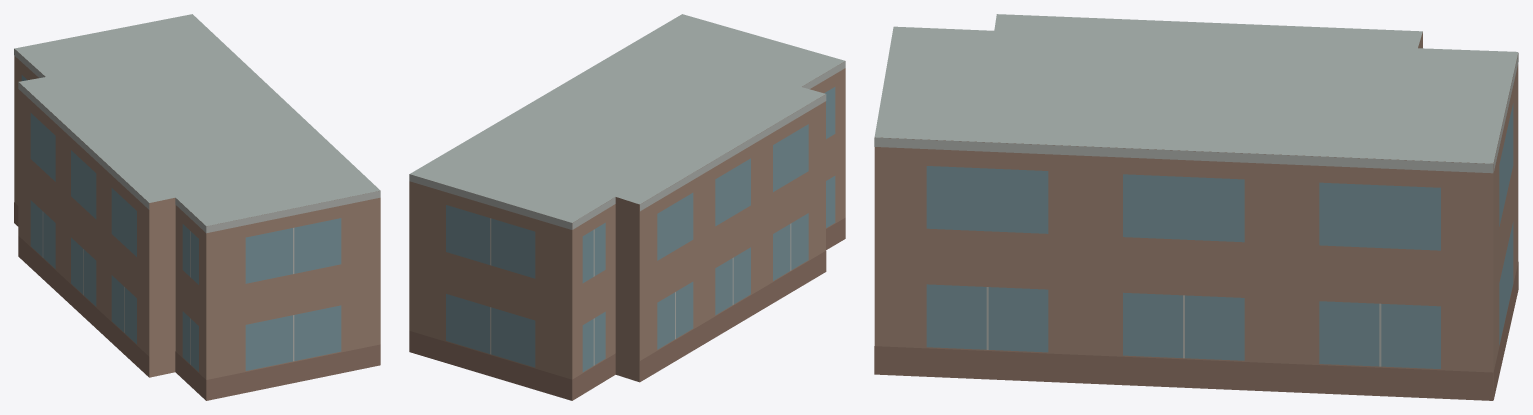
Rendered from survey-upis-32629760.glb.
3 renders of one model, left to right at view 1: azimuth 30°, elevation 25°; view 2: azimuth 150°, elevation 25°; view 3: azimuth 270°, elevation 25°, orthographic. The views are drawn at different scales.
Parts seen in each view (by area): view 1: survey-upis-32629760.tmp; view 2: survey-upis-32629760.tmp; view 3: survey-upis-32629760.tmp.
Boxes of the visible parts, box(x1,y1,x2,y2) form: survey-upis-32629760.tmp: box(14, 14, 380, 400); survey-upis-32629760.tmp: box(409, 14, 845, 400); survey-upis-32629760.tmp: box(874, 14, 1518, 400).
Bounding box in the file's own units: 8.28 × 6.1 × 15.03.
